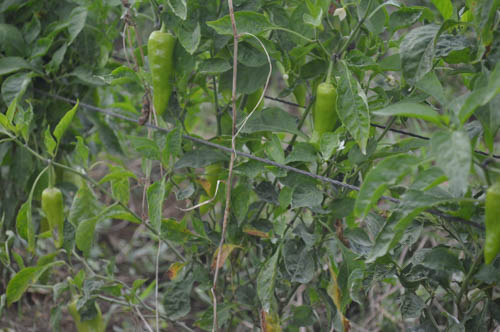ChiliPepper: (148, 33, 176, 118), (311, 82, 340, 142), (40, 189, 65, 248)
